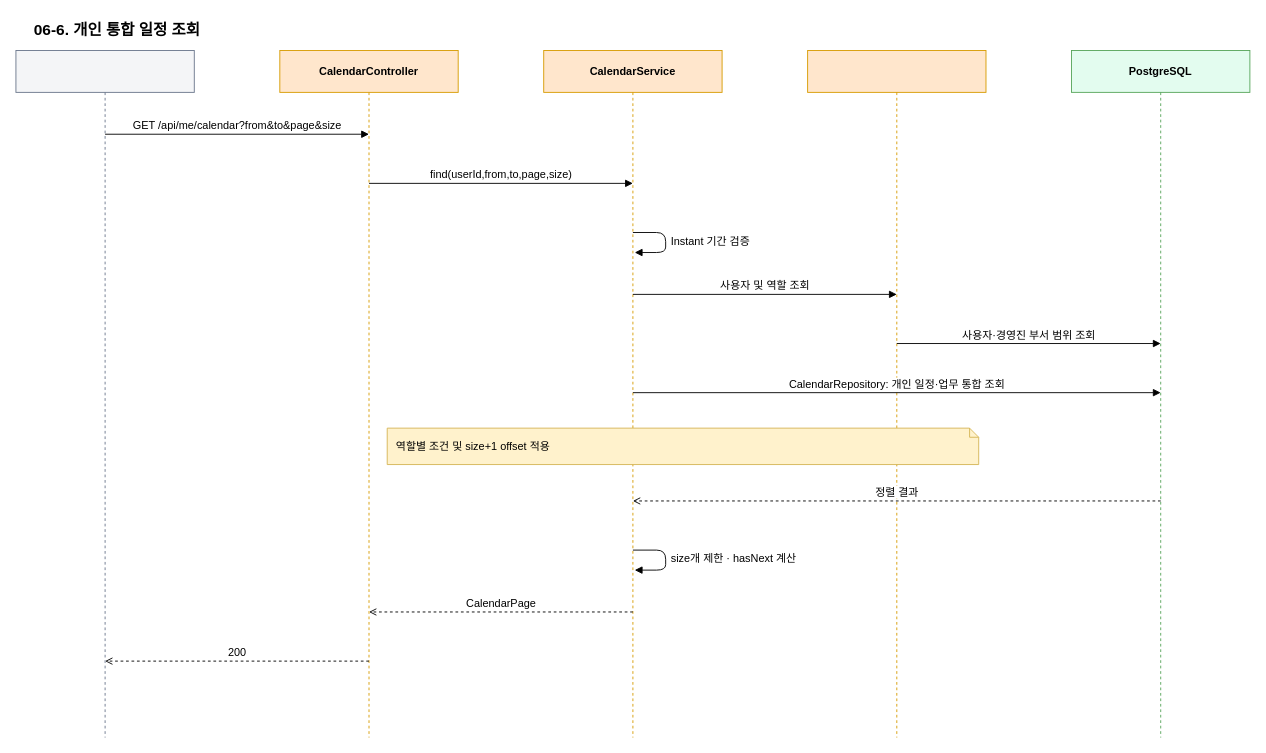
This 1266x753 diagram has some shape labels left out. Each missing label, with the box of its shape:
Access / Visibility: (807, 50, 986, 738)
FE: (15, 50, 194, 738)
